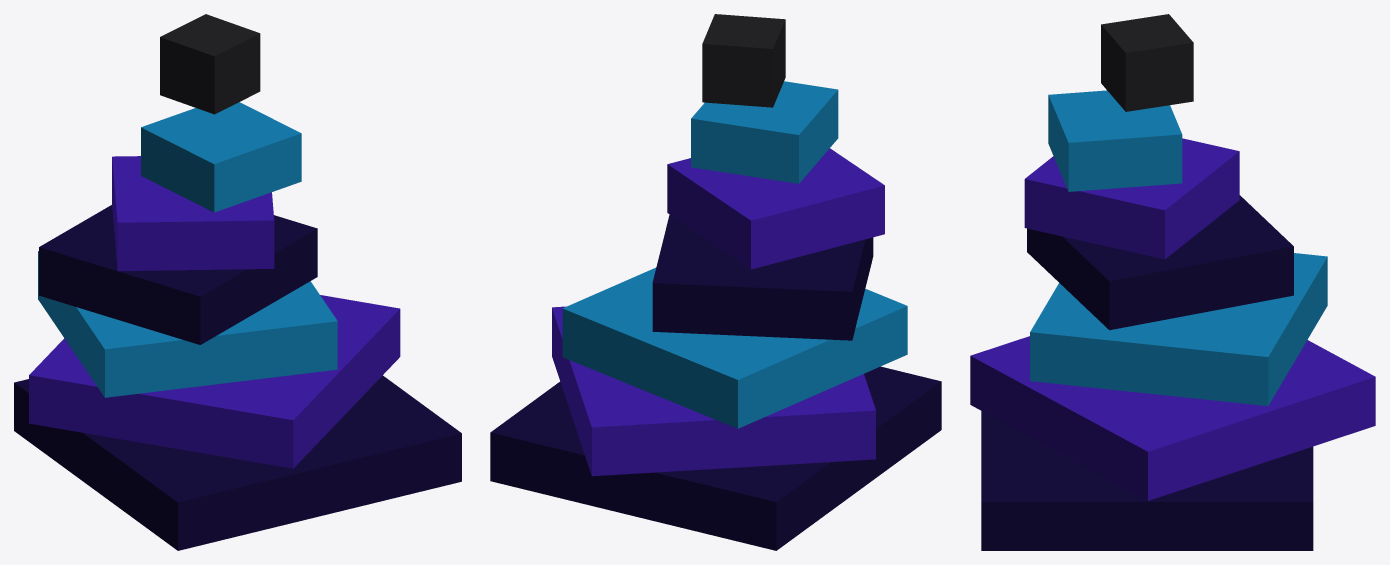
File: Vertigo_low.fbx
3 views of the same model, side by side, from view 1: azimuth 30°, elevation 25°; view 2: azimuth 150°, elevation 25°; view 3: azimuth 270°, elevation 25° (orthographic).
Parts seen in each view (by area): view 1: Vertigo_low; view 2: Vertigo_low; view 3: Vertigo_low.
Boxes of the visible parts, box(x1,y1,x2,y2) form: Vertigo_low: box(14, 14, 461, 550); Vertigo_low: box(490, 14, 941, 550); Vertigo_low: box(970, 14, 1375, 550).
Size of the model in its own units: 56.15 by 66.25 by 56.15.
